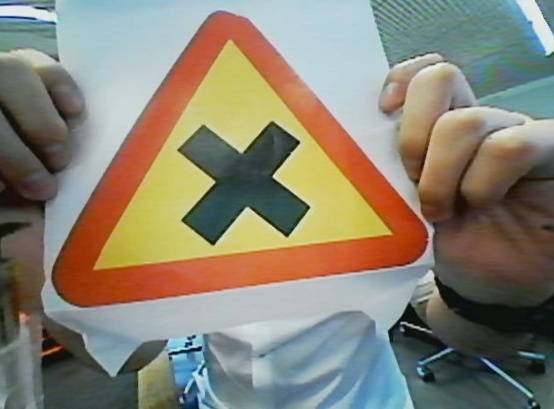junction: (38, 12, 438, 322)
